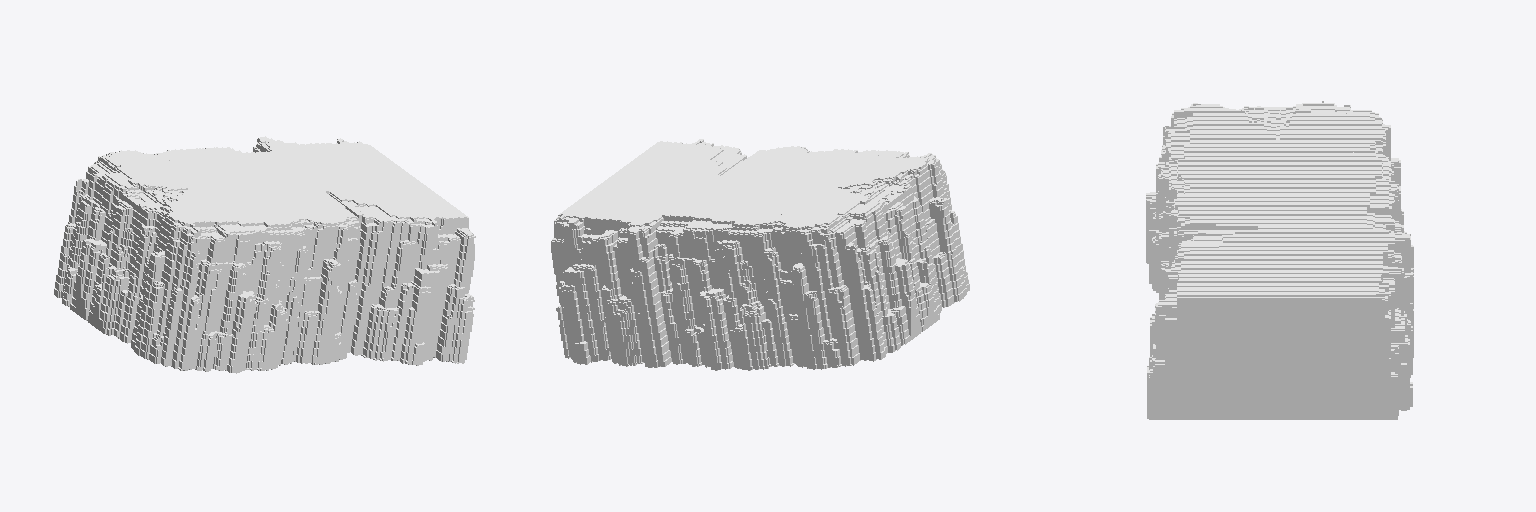
The model's file is forest1.4-145.obj.
The picture shows the model from 3 angles: view 1: azimuth 30°, elevation 25°; view 2: azimuth 150°, elevation 25°; view 3: azimuth 270°, elevation 25°; orthographic projection.
Visible parts, largest first — view 1: object 1; view 2: object 1; view 3: object 1.
Boxes of the visible parts, box(x1,y1,x2,y2) form: object 1: box(54, 136, 475, 373); object 1: box(551, 139, 969, 370); object 1: box(1146, 101, 1413, 419).
Size of the model in its own units: 25.6 by 14.2 by 18.4.